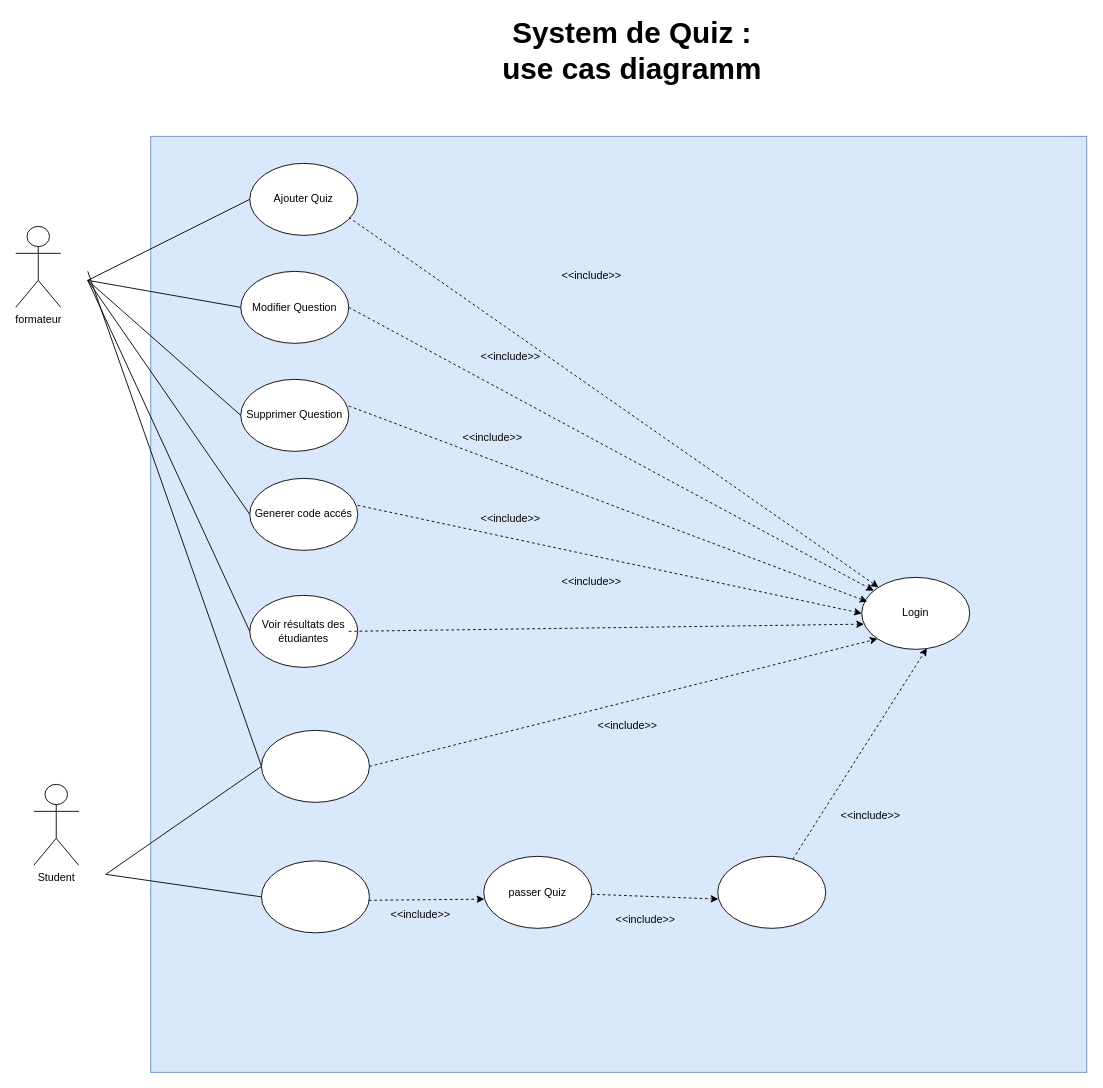
This 1103x1088 diagram has some shape labels left out. The centre of each missing label's shape, as x and y in pixels:
"s'inscrire" belongs at [315,765].
"Taper code acc" belongs at [771,891].
"Voir resultat score" belongs at [315,896].
